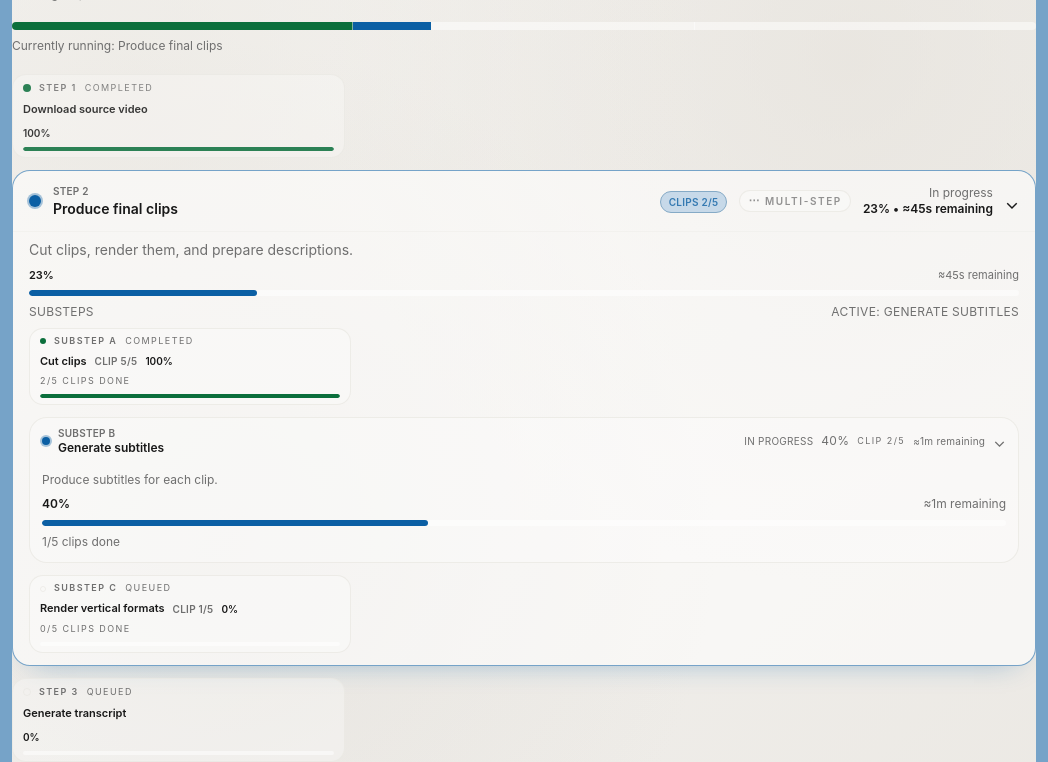
Test: PipelineProgress › renders pipeline summary and step details
(page scrolled)
Check: the text "Currently running: Produce final clips" is shown, box [12,38,223,53]
Check: the text "Multi-step" is shown, box [765,193,842,209]
Click the button "Step 3 Queued Generate transcript 0%": [55, 691] box [12,678,345,761]
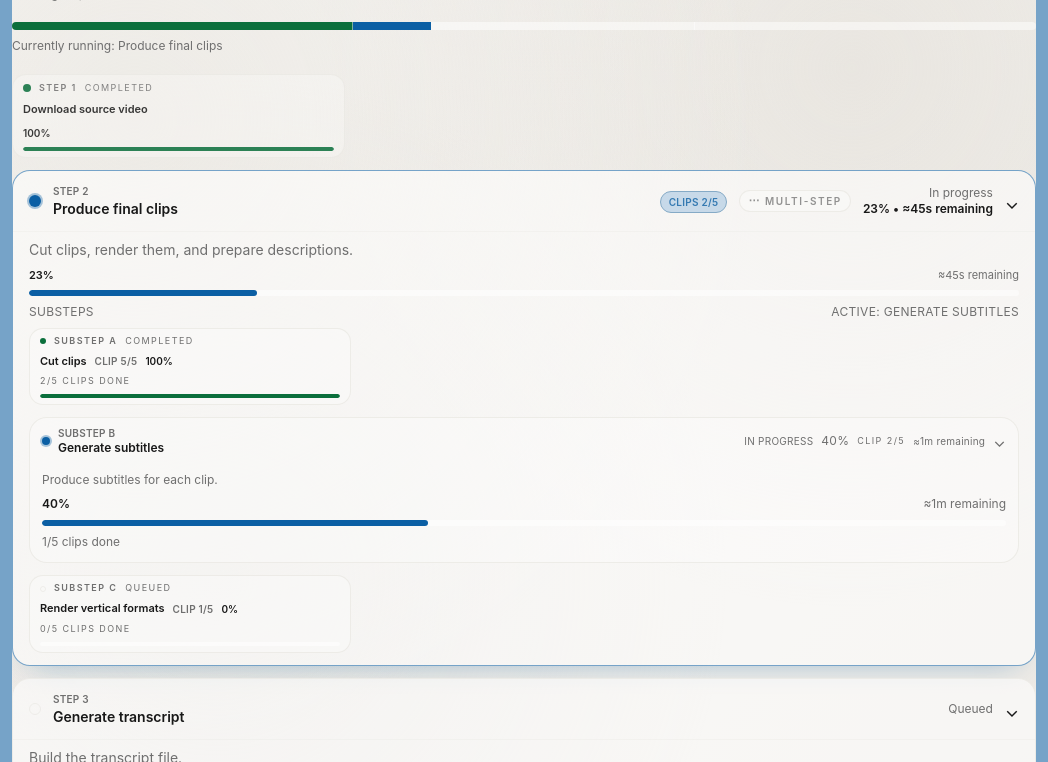
Check: the text "Clips 2/5" is shown, box [660,191,727,213]
Check: the button "Step 3 Generate transcript Queued ⌃" is expanded, box [13,679,1035,739]
